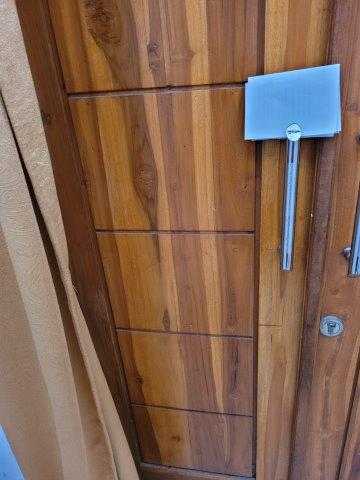kertas: (242, 62, 344, 140)
